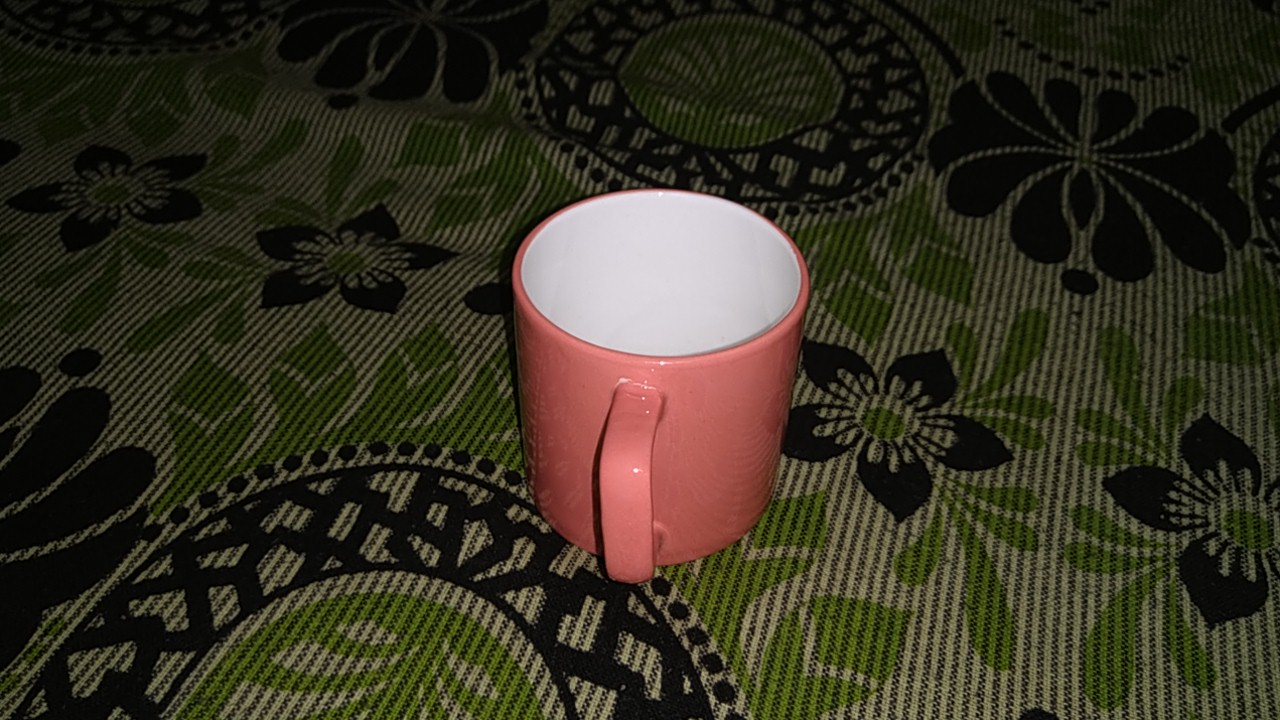cup: (492, 174, 826, 602)
